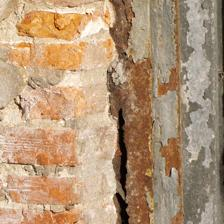Crack: (16, 10, 114, 122), (0, 5, 63, 37)
